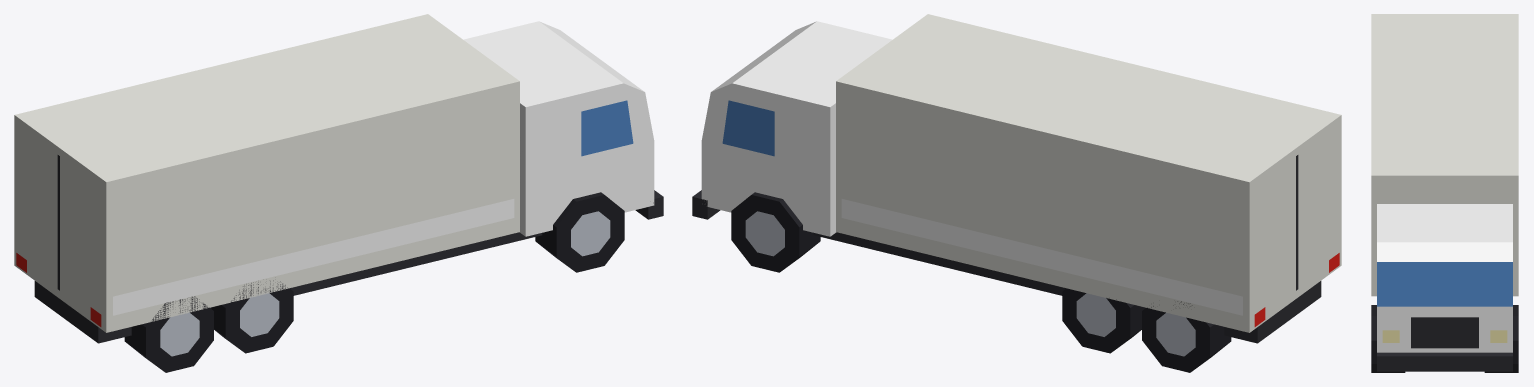
The model's file is truck.glb.
3 views of the same model, side by side, from view 1: azimuth 30°, elevation 25°; view 2: azimuth 150°, elevation 25°; view 3: azimuth 270°, elevation 25° (orthographic). The views are drawn at different scales.
Parts seen in each view (by area): view 1: Body; view 2: Body; view 3: Body.
Boxes of the visible parts, box(x1,y1,x2,y2) form: Body: box(14, 14, 663, 372); Body: box(692, 14, 1341, 372); Body: box(1371, 14, 1518, 372).
Bounding box in the file's own units: 0.9175 × 0.32 × 0.263.
